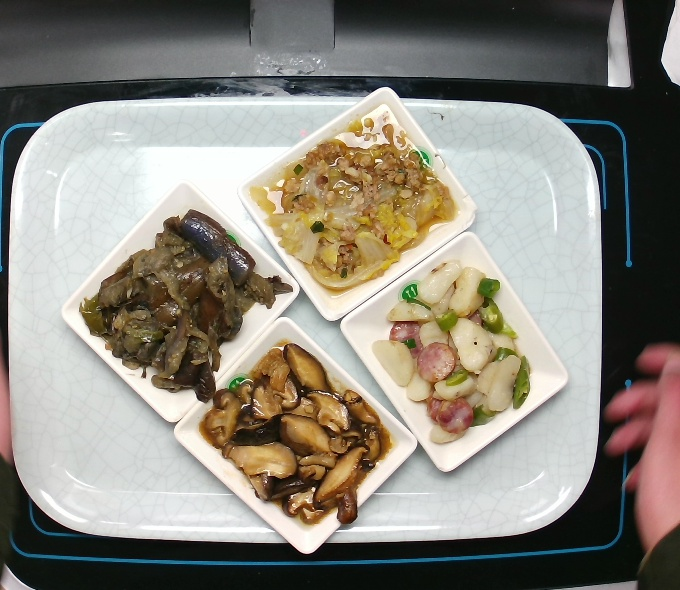wcq-MaTiGuo: (368, 256, 540, 446)
wcq-MoGu: (194, 336, 396, 529)
wcq-QieZi: (71, 205, 297, 407)
wcq-RouMoBaiCai: (244, 98, 473, 303)
